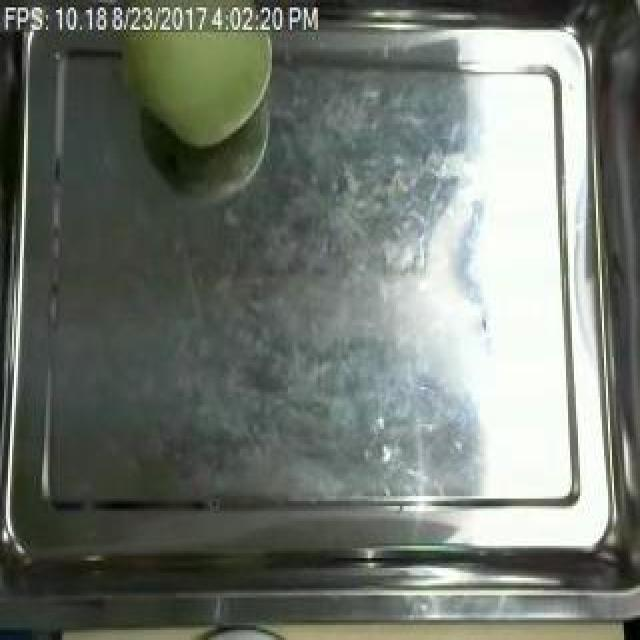Rotten Apple: (114, 0, 290, 164)
